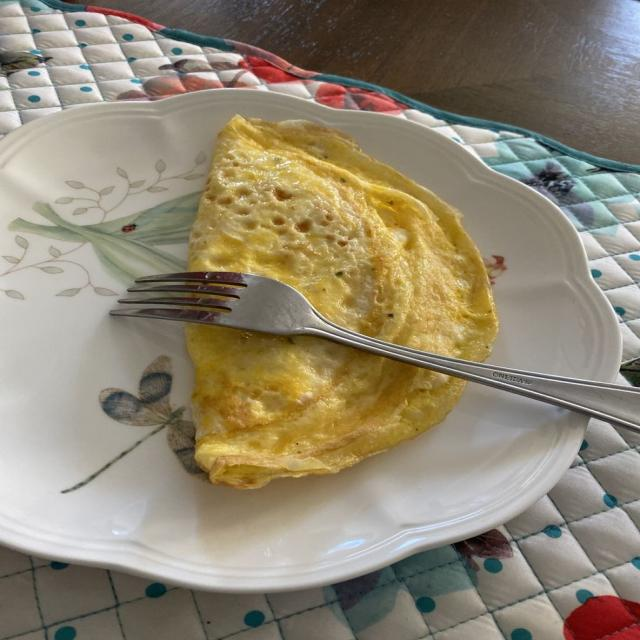omelette: (189, 117, 497, 360)
